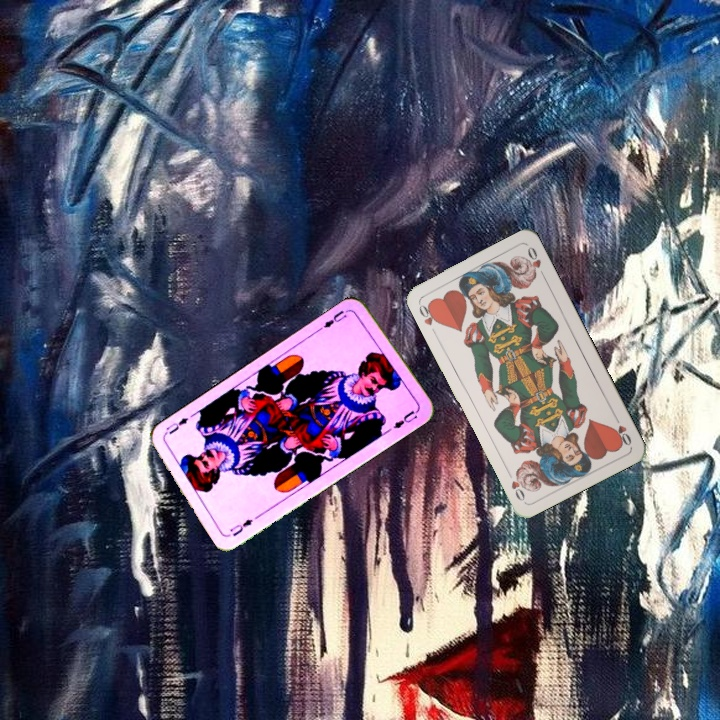EU: (316, 305, 352, 333), (225, 515, 256, 539)
HO: (610, 410, 634, 448), (414, 299, 442, 328)
